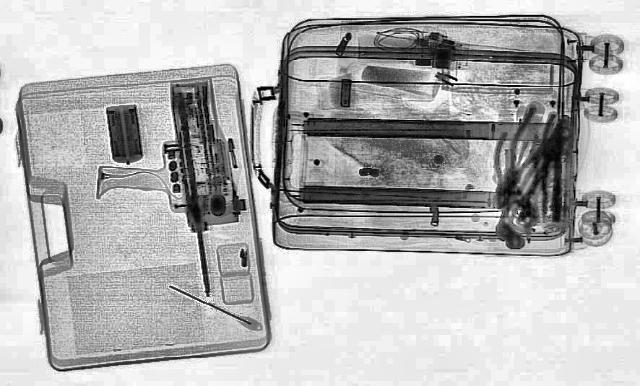Pliers: (491, 107, 559, 188), (480, 131, 540, 209)
